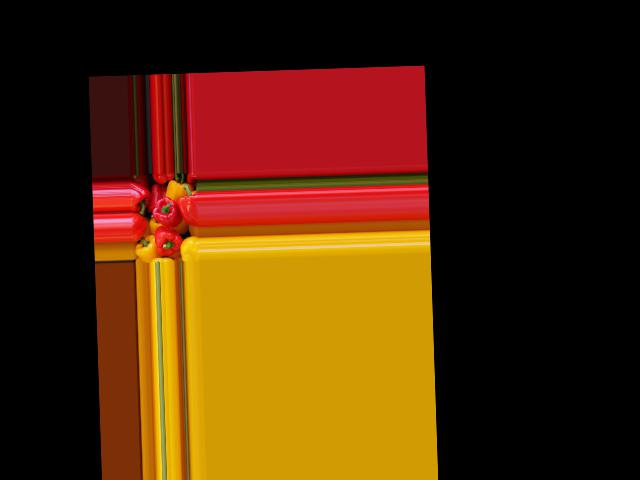bell_pepper: (137, 237, 159, 262)
